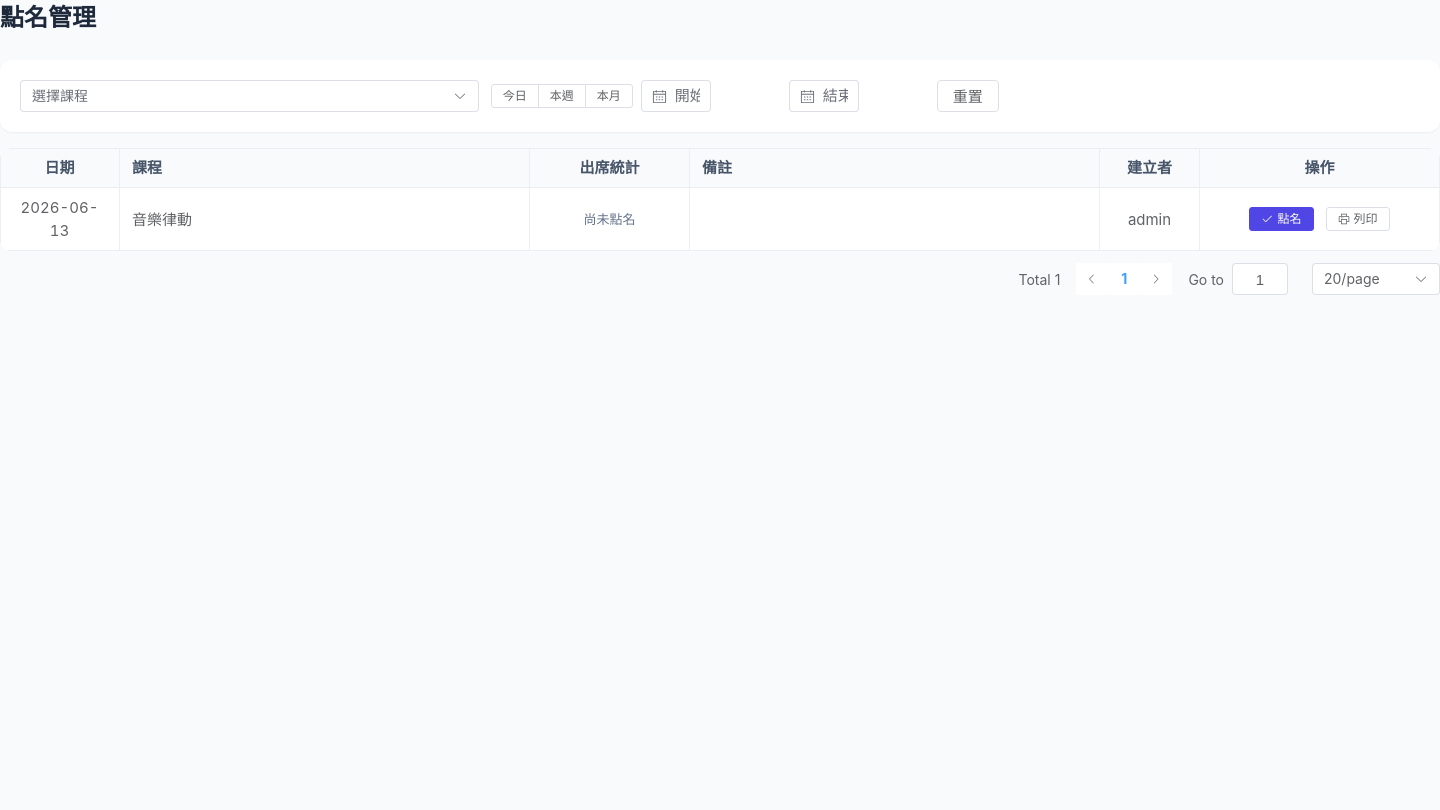
ActivityAttendanceView — drawer 寫入按鈕蓋 canWrite（A2） › READ-only 使用者看不到儲存點名/全部出席/全班出席等寫入按鈕
Click the button "點名" at (1282,220), box 1250,208 -> 1314,232
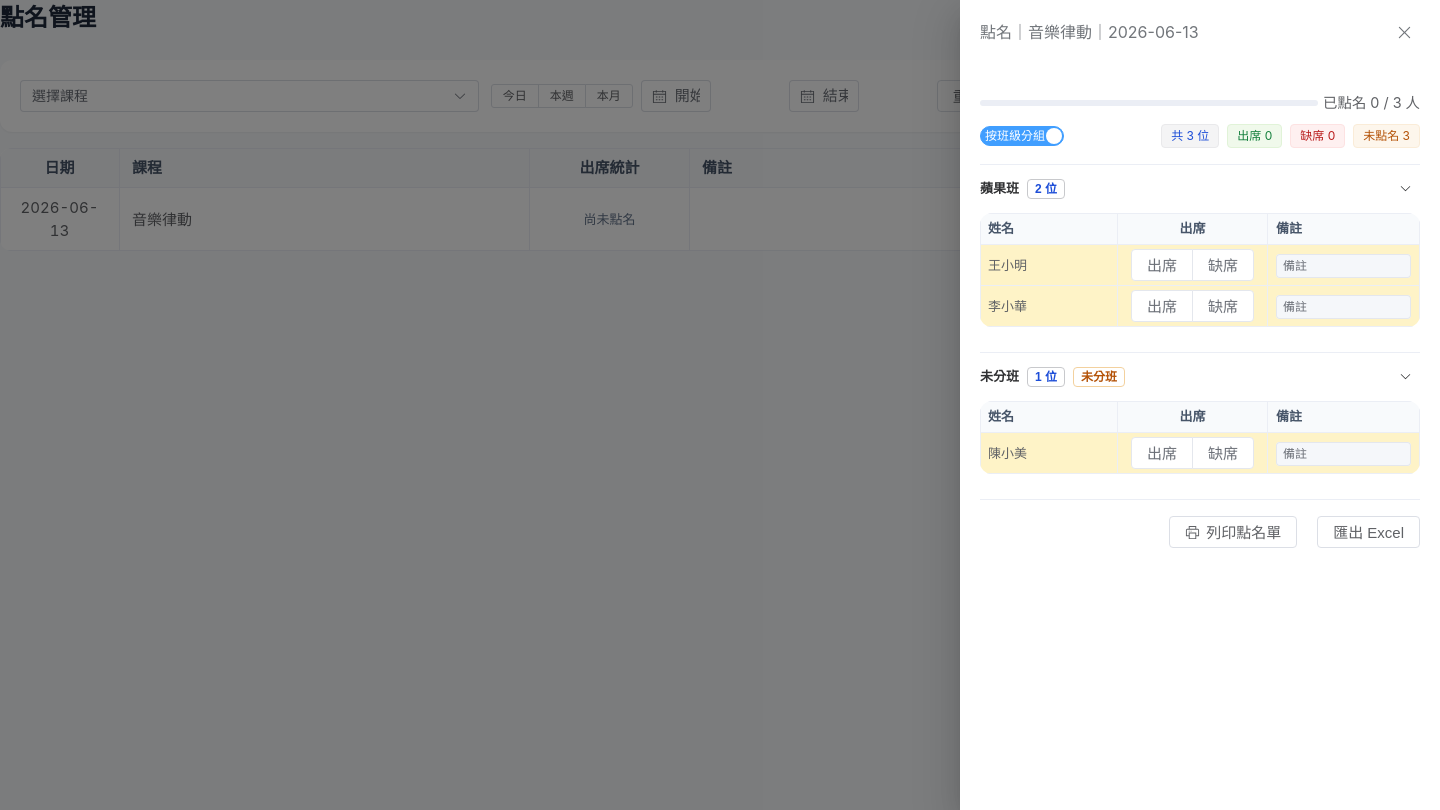
expect the text "列印點名單" is shown: met, box 1206,525 -> 1281,540
expect the text "匯出 Excel" is shown: met, box 1333,525 -> 1404,540
expect the button "出席 缺席" is shown: met, box 1131,249 -> 1254,281
